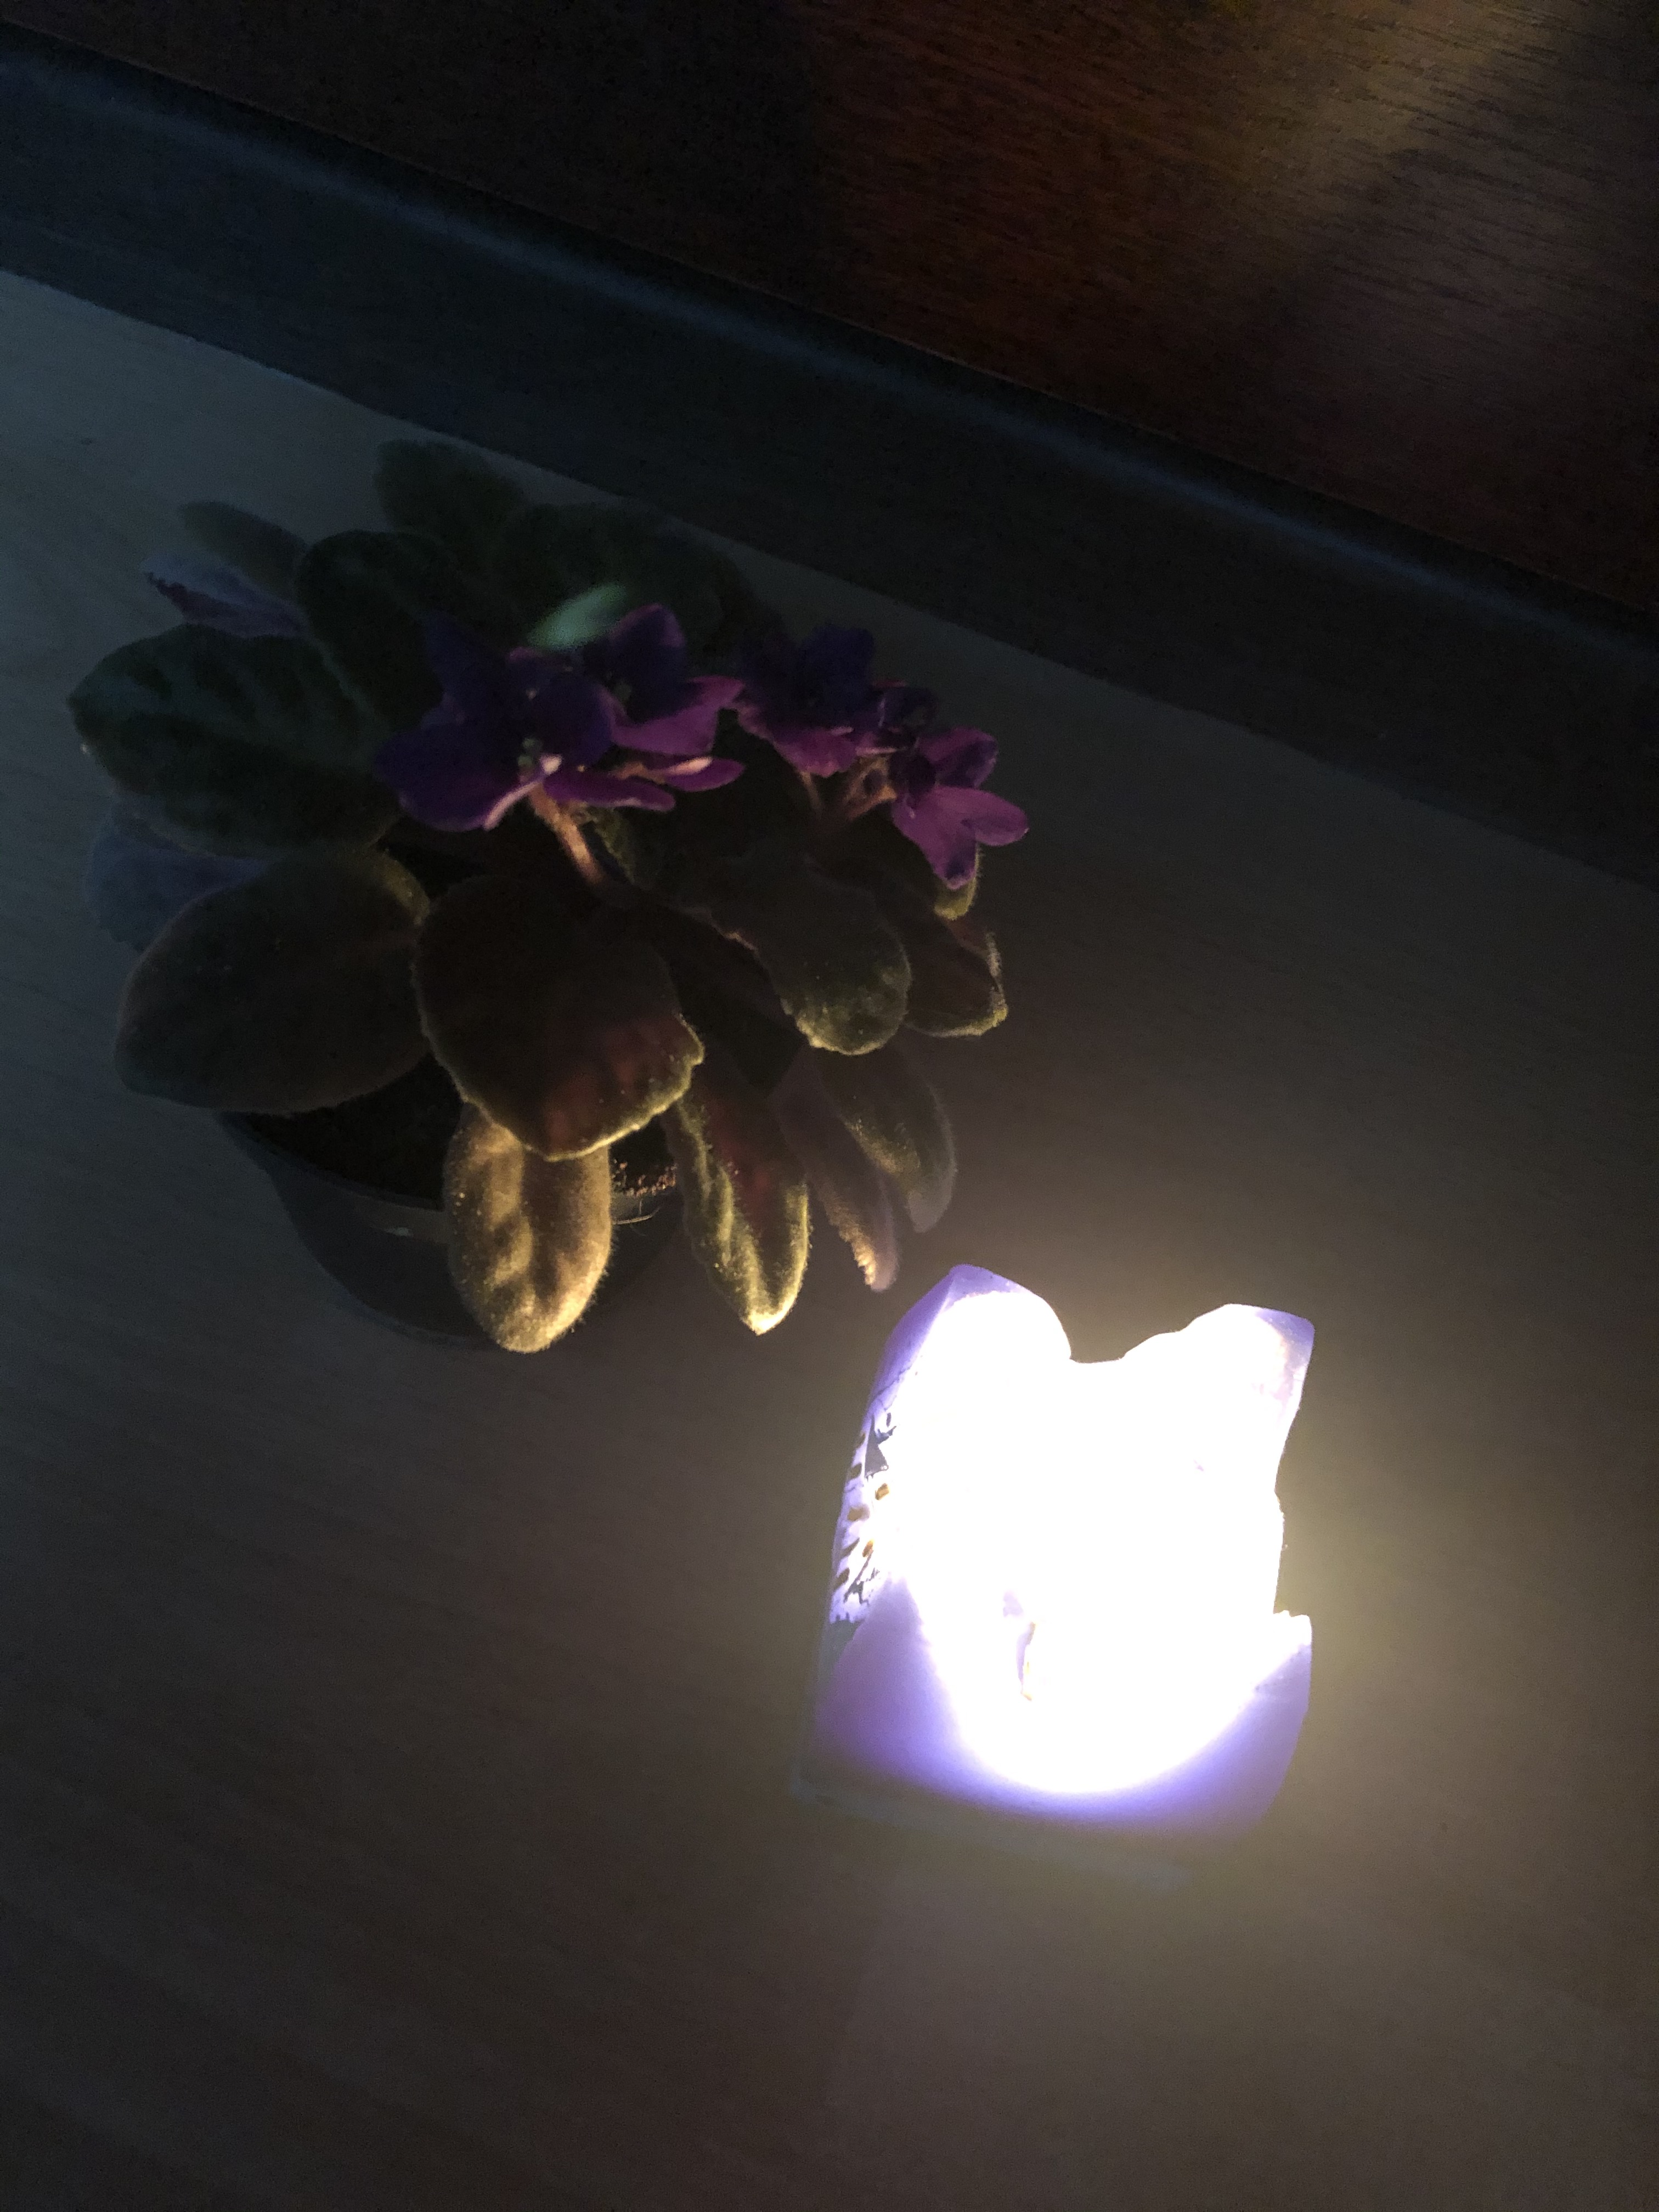ignore: (71, 413, 1019, 1287)
